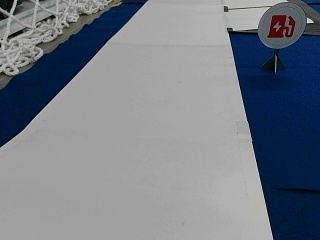battery: (257, 1, 307, 49)
